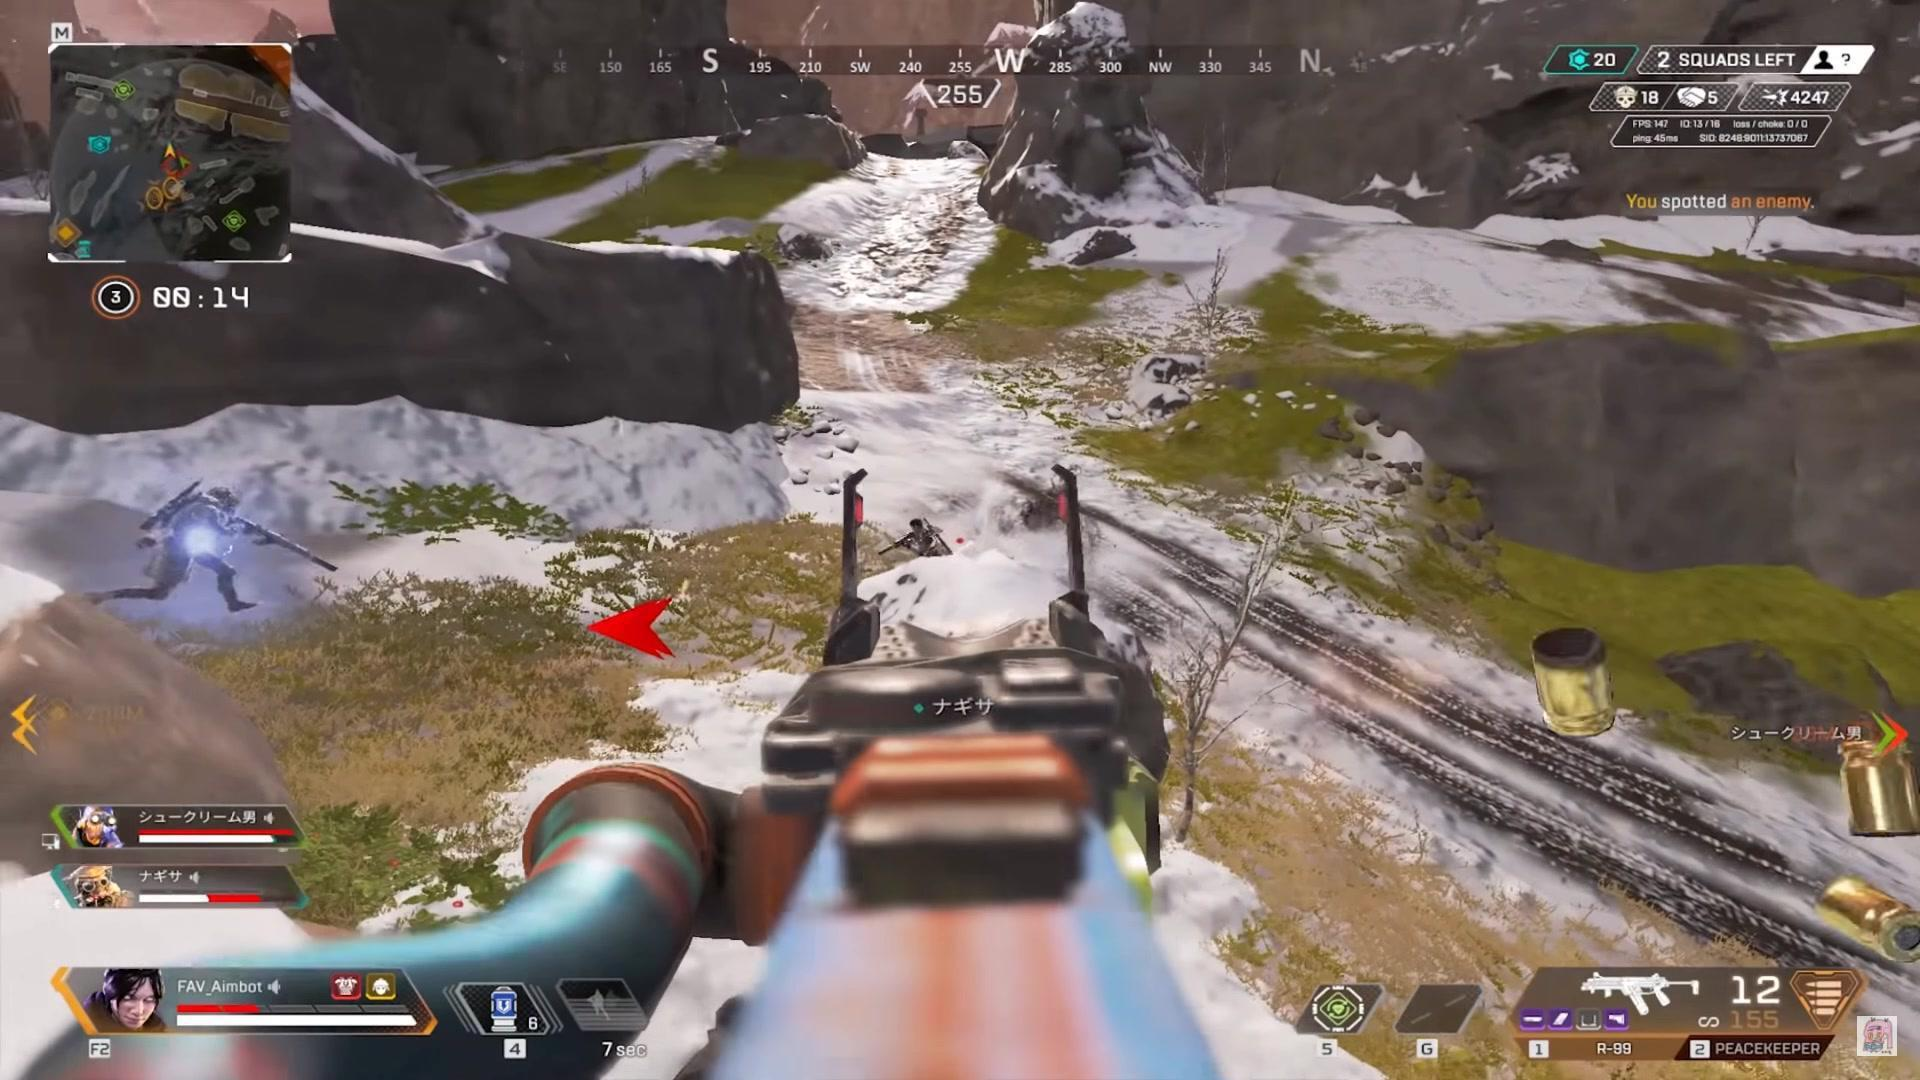avatar: (133, 480, 261, 619), (886, 514, 954, 559)
object: (178, 519, 224, 565)
